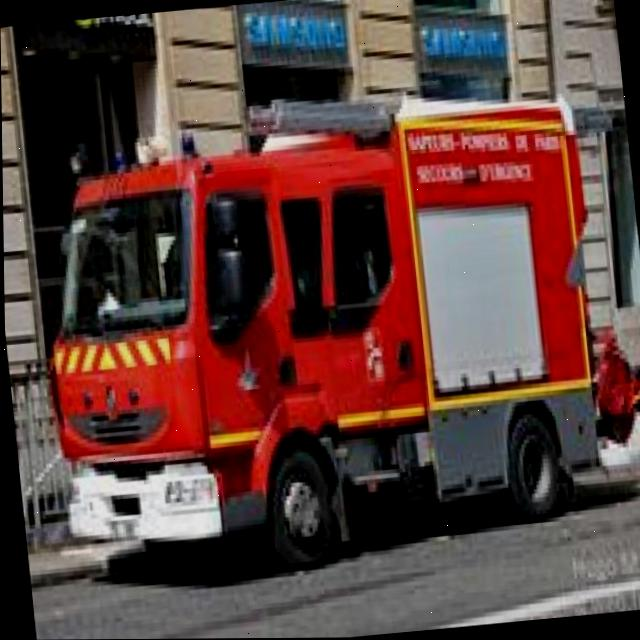emergency: (23, 70, 640, 587)
